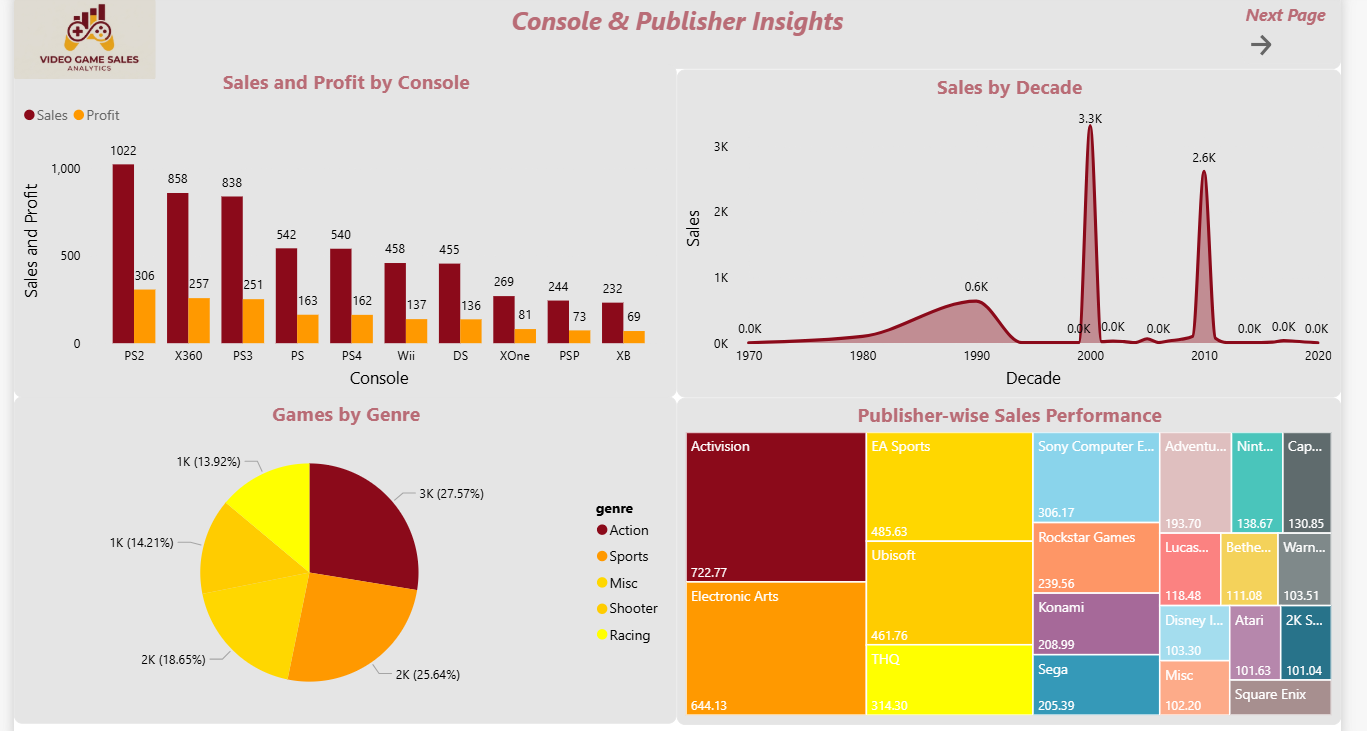

The dashboard page shown, as its layout file describes it:
{"tool":"powerbi","page":{"name":"Console & Publisher Insights","canvas":[1280,720],"ordinal":1},"visuals":[{"type":"textbox","box":[0,0,1280.3,72.6],"z":0},{"type":"lineChart","title":"Sales by Decade","fields":{"Y":["vg_data.total_global_sales"],"Category":["vg_data.decade"]},"box":[639.4,72.8,640.6,316.7],"z":1000},{"type":"clusteredColumnChart","title":"Sales and Profit by Console","fields":{"Category":["vg_data.console"],"Y":["Sum(vg_data.Sales)","vg_data.Estimated Profit"]},"box":[0,67.9,639.4,321.5],"z":2000},{"type":"treemap","title":"Publisher-wise Sales Performance","fields":{"Group":["vg_data.publisher"],"Values":["vg_data.total_global_sales"]},"box":[639.4,389.5,640.6,315.5],"z":3000},{"type":"pieChart","title":"Games by Genre","fields":{"Category":["vg_data.genre"],"Y":["vg_data.Total Games"]},"box":[0,388.3,639.4,315.5],"z":4000},{"type":"actionButton","title":"Next Page","box":[1184.1,4.9,95.9,63.1],"z":5000},{"type":"image","box":[0,4.9,137.1,77.7],"z":6000}]}

Visuals, with their boxes on the page's 1280x720 design canvas (x1, y1, x2, y2). These are canvas units, not pixel positions in the 1367x731 screenshot, which may show the page scaled, cropped or inside an application window:
textbox: locate(0, 0, 1280, 73)
"Sales by Decade" lineChart: locate(639, 73, 1280, 390)
"Sales and Profit by Console" clusteredColumnChart: locate(0, 68, 639, 389)
"Publisher-wise Sales Performance" treemap: locate(639, 390, 1280, 705)
"Games by Genre" pieChart: locate(0, 388, 639, 704)
"Next Page" actionButton: locate(1184, 5, 1280, 68)
image: locate(0, 5, 137, 83)
